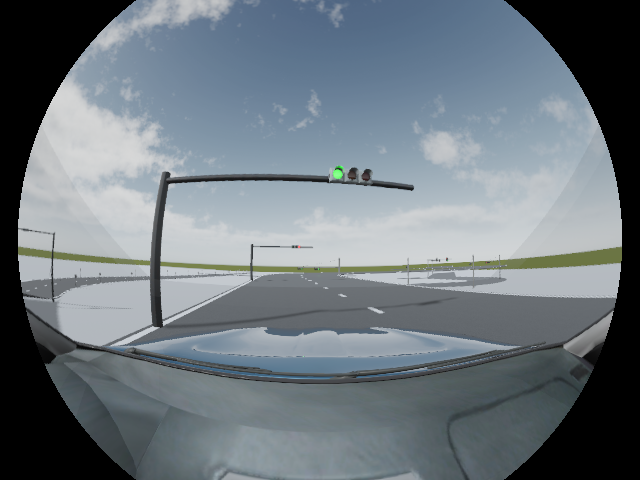Green Light: (330, 164, 375, 186)
